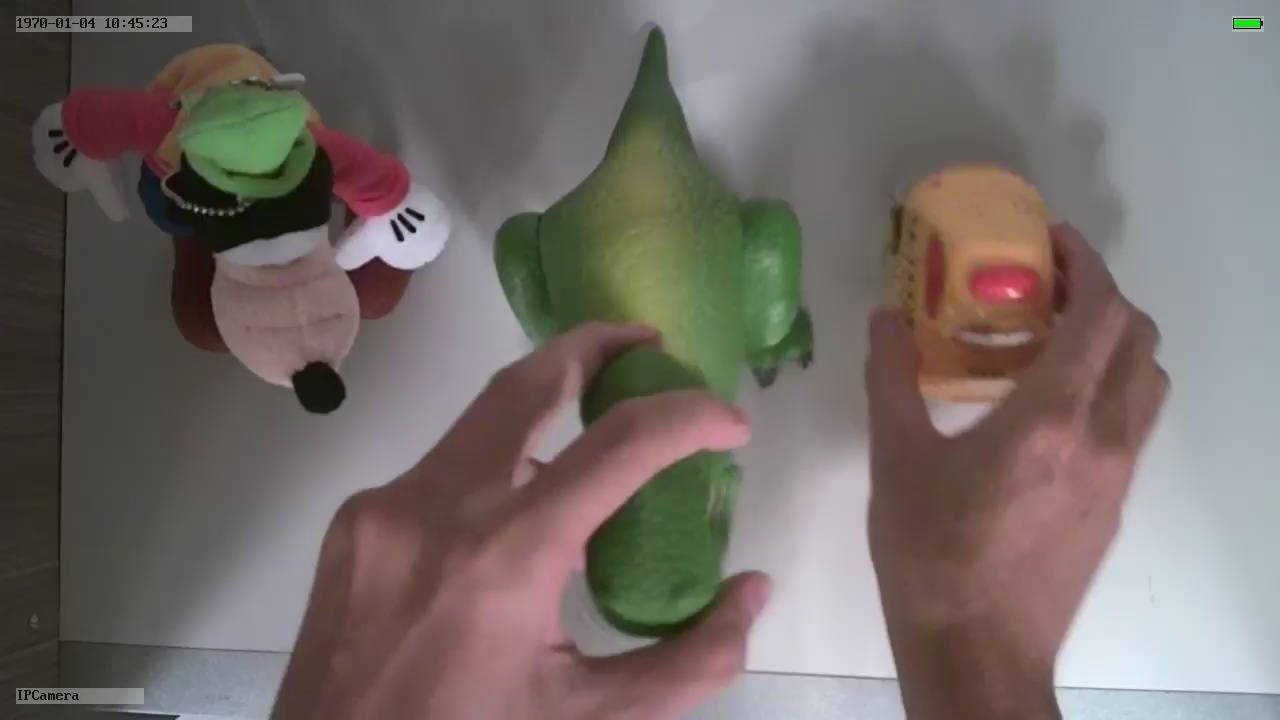goofy: (31, 42, 452, 413)
